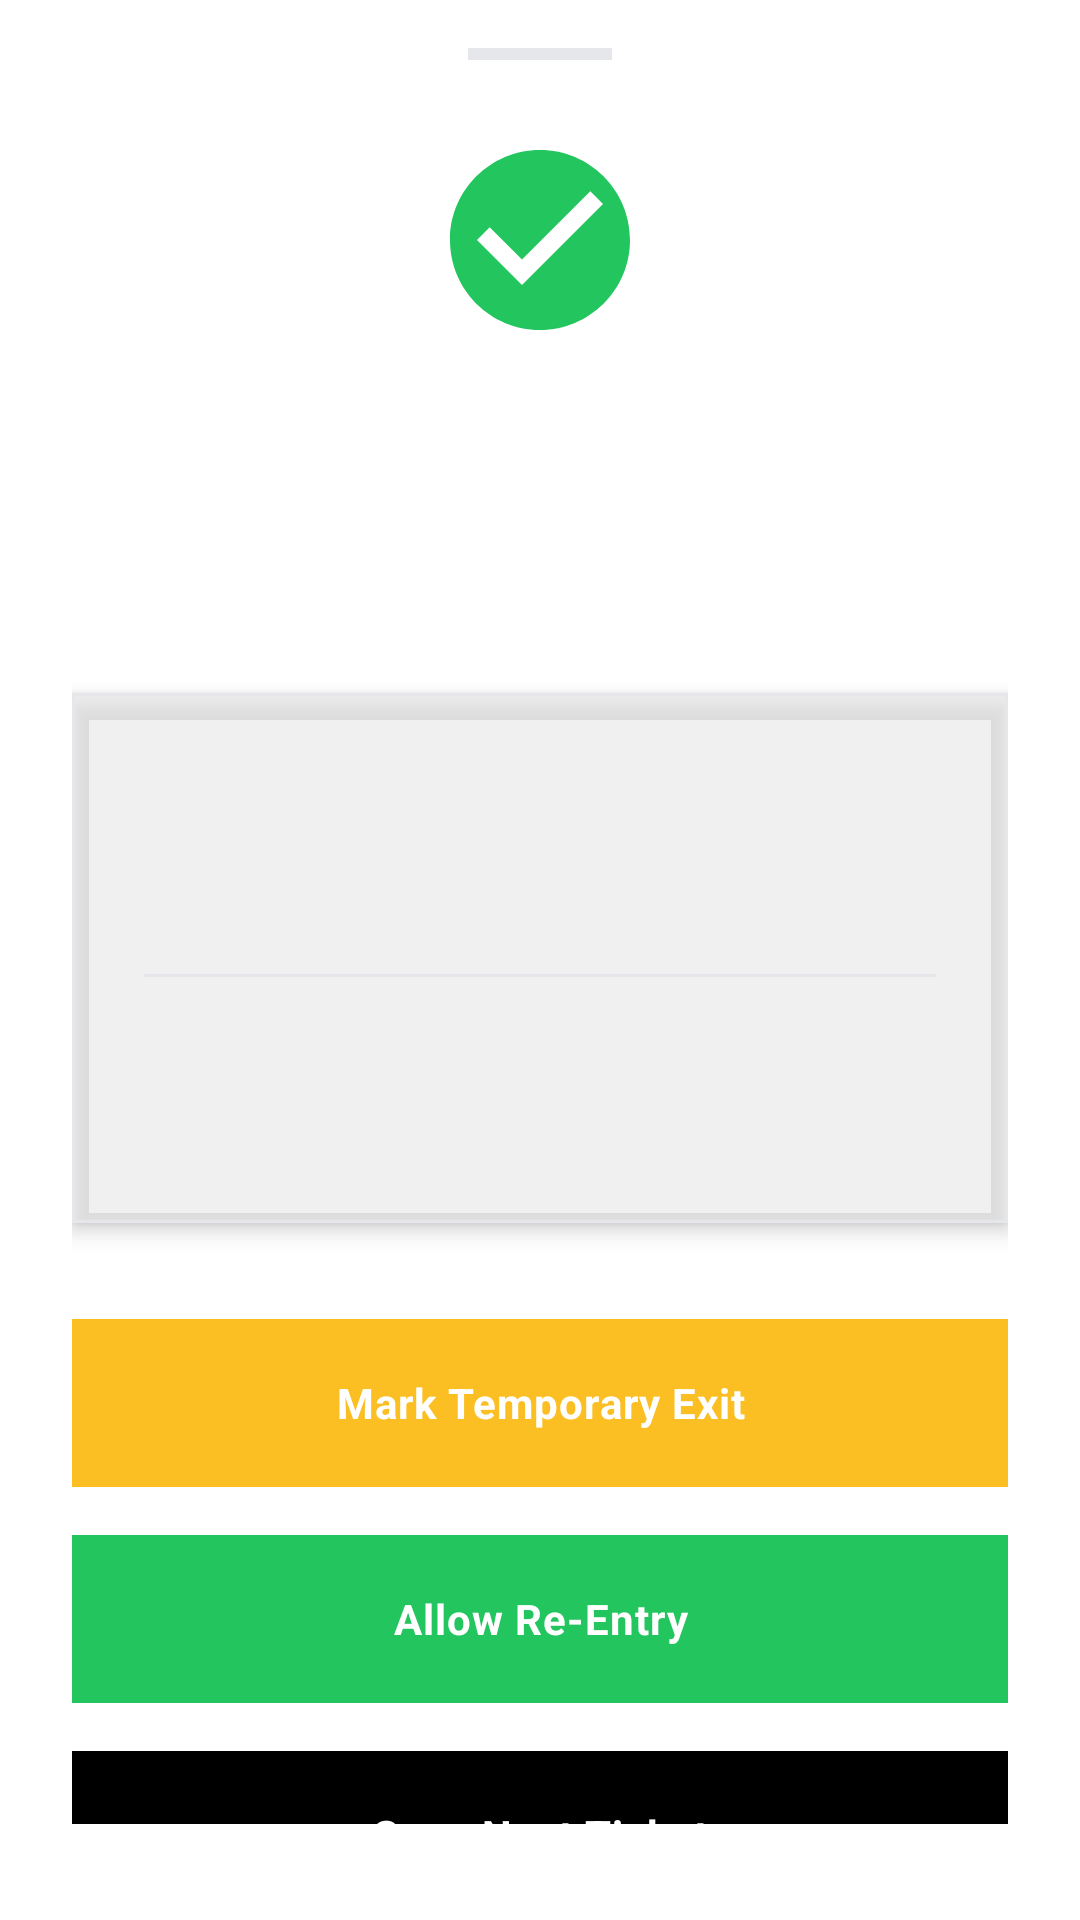

Named icons in this screenshot (1080px×1920px) and their bounding boxes, (x1, y1, x2, y2):
success: (450, 150, 630, 330)
